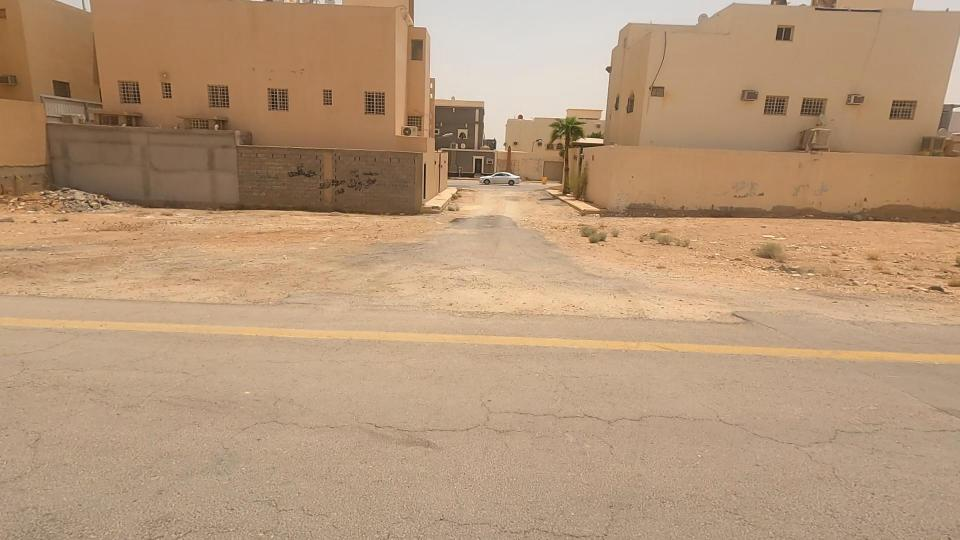GARBAGE: (25, 180, 150, 231)
GRAFFITI: (307, 142, 410, 213), (299, 164, 372, 205), (262, 148, 326, 194)
